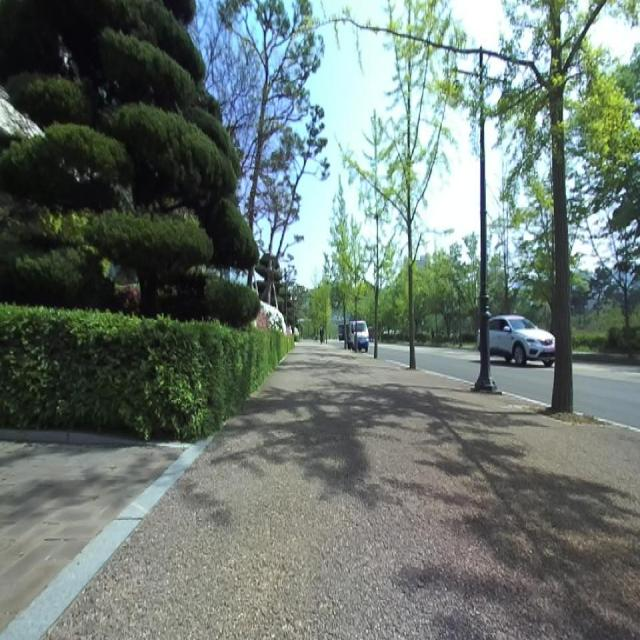sidewalk: (48, 341, 640, 639)
